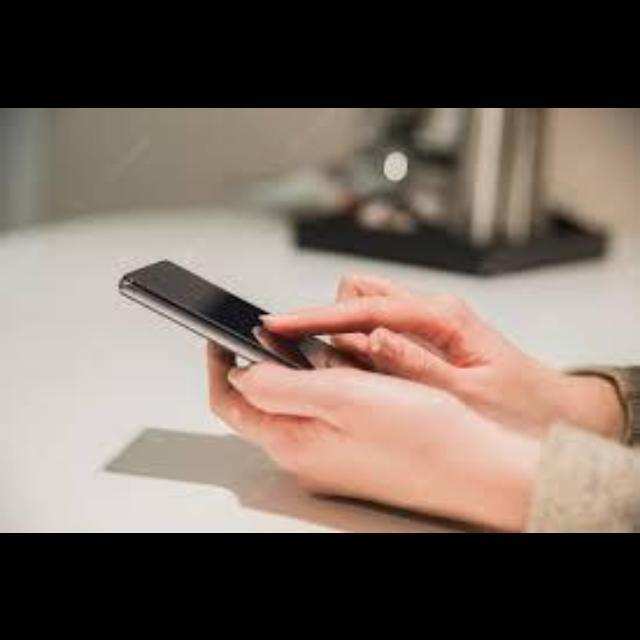phone: (95, 234, 455, 451)
